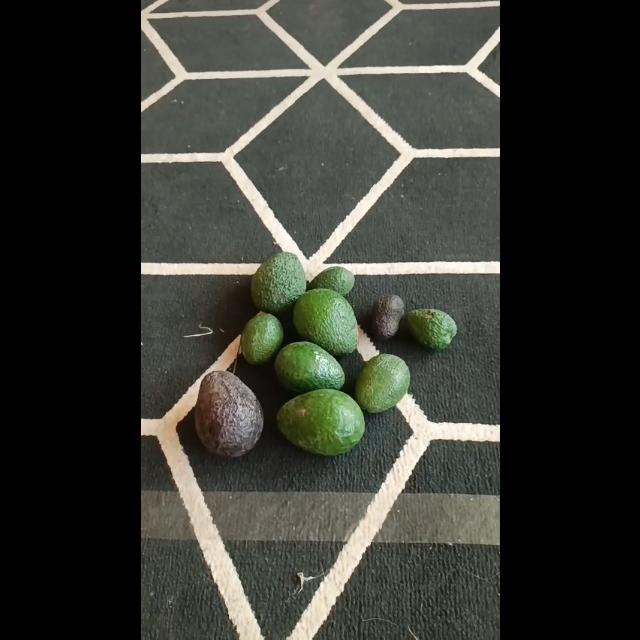Primera: (192, 370, 262, 456), (276, 388, 364, 456), (292, 288, 358, 354), (250, 251, 304, 313)
Segunda: (274, 341, 344, 394), (354, 353, 410, 412)
Tercera: (238, 312, 282, 364), (404, 308, 456, 350), (370, 296, 404, 340), (308, 265, 354, 297)
